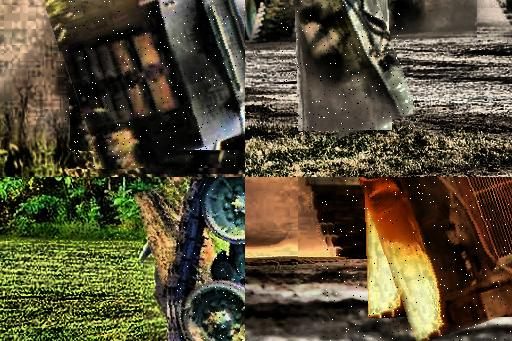tanks: (62, 1, 246, 169), (358, 178, 512, 341), (306, 1, 413, 132), (172, 178, 246, 341)
